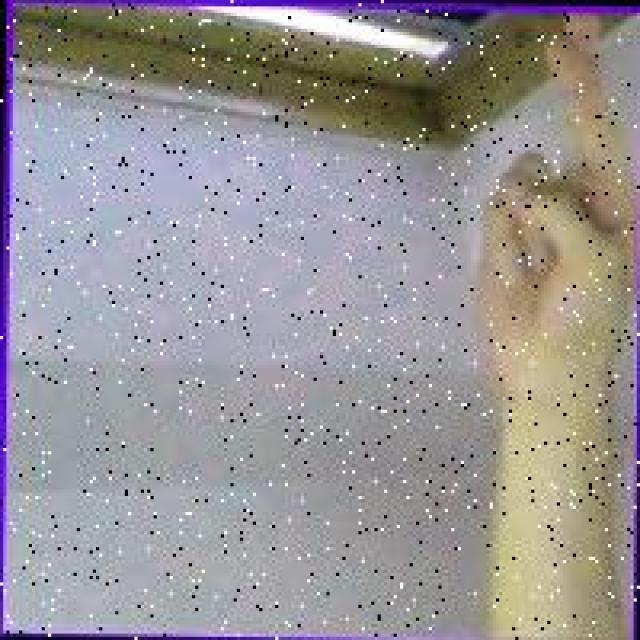R: (467, 11, 640, 424)
